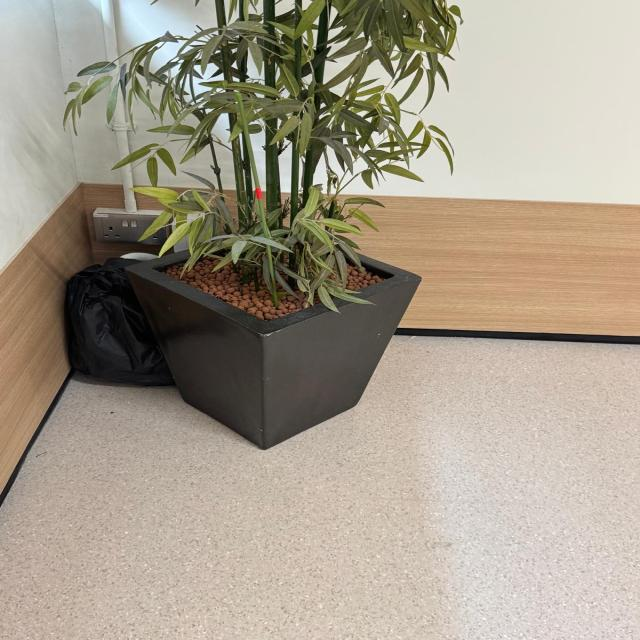Pot: (127, 223, 421, 451)
